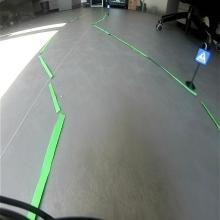crosswalk: (194, 47, 210, 66)
